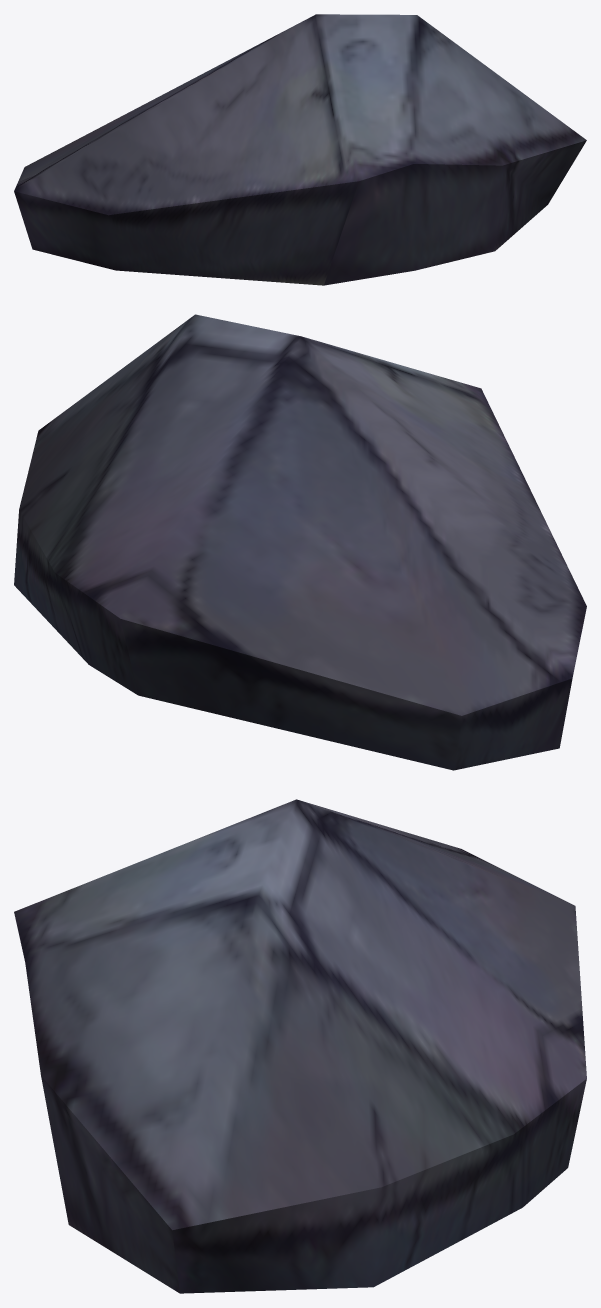
The model's file is 2_YiZhan_ShiDui_18.FBX.
3 views of the same model, one above another, from view 1: azimuth 30°, elevation 25°; view 2: azimuth 150°, elevation 25°; view 3: azimuth 270°, elevation 25° (orthographic). The views are drawn at different scales.
Visible parts, largest first — view 1: 2_YiZhan_ShiDui_18; view 2: 2_YiZhan_ShiDui_18; view 3: 2_YiZhan_ShiDui_18.
Boxes of the visible parts, bbox=[...] form: 2_YiZhan_ShiDui_18: bbox=[14, 14, 586, 285]; 2_YiZhan_ShiDui_18: bbox=[14, 314, 586, 770]; 2_YiZhan_ShiDui_18: bbox=[14, 799, 586, 1293].
Bounding box in the file's own units: 203 × 85.05 × 130.
